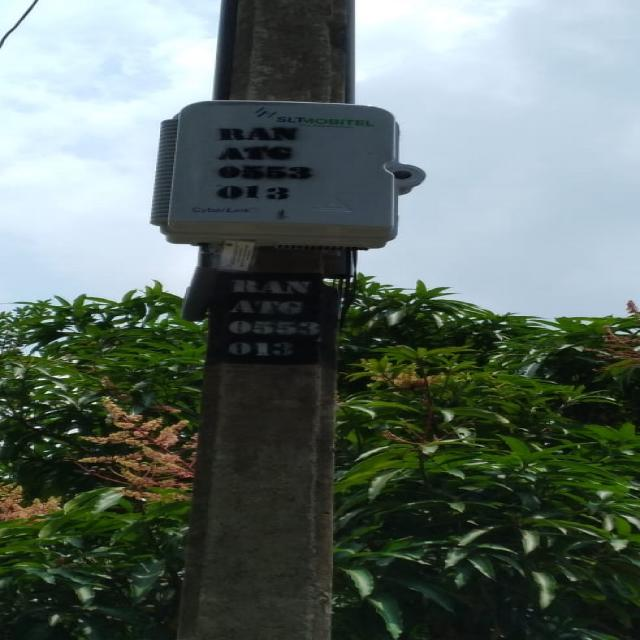light_pole: (147, 0, 425, 640)
